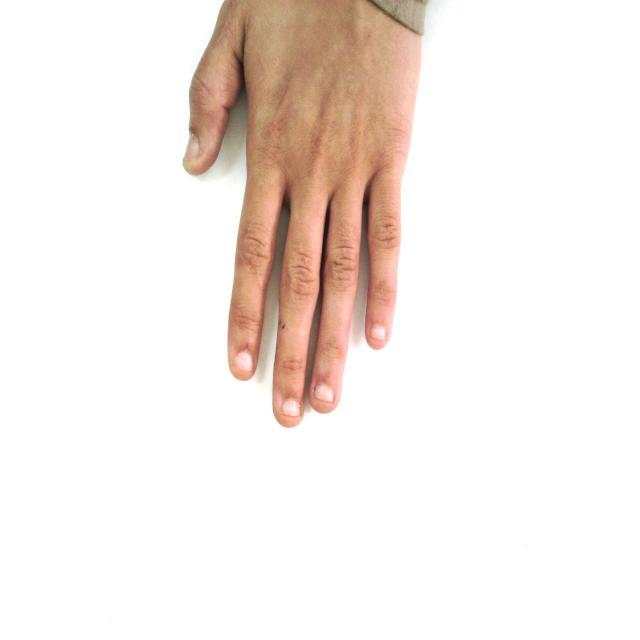Fingernail: (185, 135, 199, 161), (236, 352, 253, 373), (314, 386, 332, 402), (282, 399, 300, 415), (371, 325, 385, 341)
